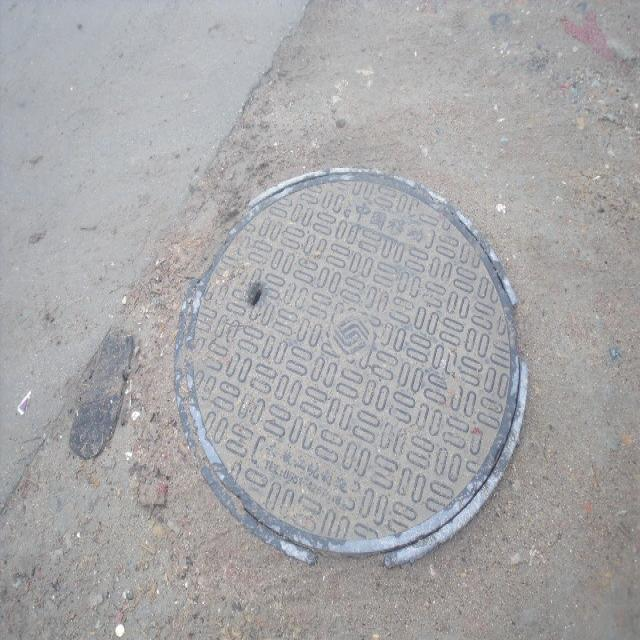Good: (175, 164, 526, 565)
